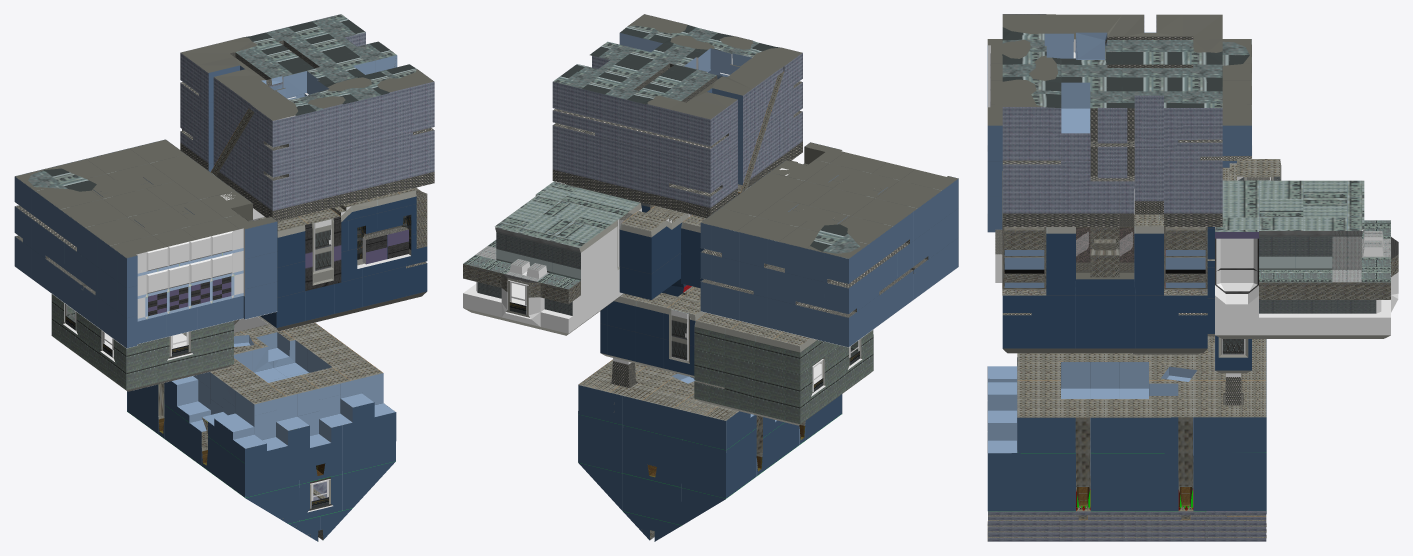
3 renders of one model, left to right at view 1: azimuth 30°, elevation 25°; view 2: azimuth 150°, elevation 25°; view 3: azimuth 270°, elevation 25°, orthographic. The views are drawn at different scales.
Parts seen in each view (by area): view 1: Geom1Shape253_face01, Geom1Shape69_face00, Geom1Shape66_face00, Geom1Shape122_face01, Geom1Shape246_face00, Geom1Shape65_face00, Geom1Shape186_face00, Geom1Shape179_face00, Geom1Shape190_face02, Geom1Shape190_face00, Geom1Shape254_face01, Geom1Shape187_face03 (+34 smaller); view 2: Geom1Shape249_face00, Geom1Shape69_face00, Geom1Shape189_face00, Geom1Shape70_face00, Geom1Shape66_face00, Geom1Shape246_face00, Geom1Shape16_face00, Geom1Shape254_face01, Geom1Shape155_face01, Geom1Shape187_face03, Geom1Shape246_face02, Geom1Shape288_face00 (+32 smaller); view 3: Geom1Shape185_face04, Geom1Shape248_face00, Geom1Shape246_face00, Geom1Shape186_face00, Geom1Shape121_face00, Geom1Shape155_face01, Geom1Shape246_face02, Geom1Shape121_face01, Geom1Shape181_face00, Geom1Shape157_face00, Geom1Shape174_face02, Geom1Shape69_face00 (+44 smaller).
Boxes of the visible parts, bbox=[...] form: Geom1Shape253_face01: bbox=[272, 81, 434, 221]; Geom1Shape69_face00: bbox=[31, 139, 276, 254]; Geom1Shape66_face00: bbox=[14, 176, 126, 348]; Geom1Shape122_face01: bbox=[276, 204, 427, 327]; Geom1Shape246_face00: bbox=[181, 14, 415, 120]; Geom1Shape65_face00: bbox=[127, 221, 277, 347]; Geom1Shape186_face00: bbox=[210, 323, 382, 404]; Geom1Shape179_face00: bbox=[233, 373, 395, 450]; Geom1Shape190_face02: bbox=[245, 425, 395, 541]; Geom1Shape190_face00: bbox=[245, 402, 395, 511]; Geom1Shape254_face01: bbox=[180, 53, 272, 217]; Geom1Shape187_face03: bbox=[127, 381, 244, 497]; Geom1Shape249_face00: bbox=[552, 82, 710, 218]; Geom1Shape69_face00: bbox=[701, 142, 946, 253]; Geom1Shape189_face00: bbox=[578, 385, 726, 525]; Geom1Shape70_face00: bbox=[700, 223, 848, 347]; Geom1Shape66_face00: bbox=[849, 179, 958, 346]; Geom1Shape246_face00: bbox=[553, 24, 801, 119]; Geom1Shape16_face00: bbox=[694, 326, 800, 424]; Geom1Shape254_face01: bbox=[710, 53, 802, 214]; Geom1Shape155_face01: bbox=[495, 181, 639, 247]; Geom1Shape187_face03: bbox=[726, 394, 841, 498]; Geom1Shape246_face02: bbox=[583, 14, 802, 119]; Geom1Shape288_face00: bbox=[600, 301, 663, 368]; Geom1Shape185_face04: bbox=[987, 417, 1266, 511]; Geom1Shape248_face00: bbox=[1002, 107, 1222, 226]; Geom1Shape246_face00: bbox=[1002, 14, 1222, 108]; Geom1Shape186_face00: bbox=[1017, 336, 1266, 417]; Geom1Shape121_face00: bbox=[1002, 279, 1207, 348]; Geom1Shape155_face01: bbox=[1215, 180, 1364, 231]; Geom1Shape246_face02: bbox=[1002, 14, 1222, 106]; Geom1Shape121_face01: bbox=[1016, 233, 1193, 348]; Geom1Shape181_face00: bbox=[1061, 362, 1178, 398]; Geom1Shape157_face00: bbox=[1215, 304, 1390, 335]; Geom1Shape174_face02: bbox=[1259, 231, 1332, 268]; Geom1Shape69_face00: bbox=[987, 43, 1251, 125].
Size of the model in its own units: 23285 by 28364 by 21021.
